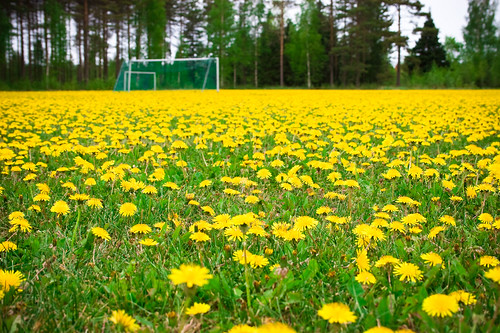flowers: (1, 88, 500, 333)
vegetation: (1, 1, 499, 86)
